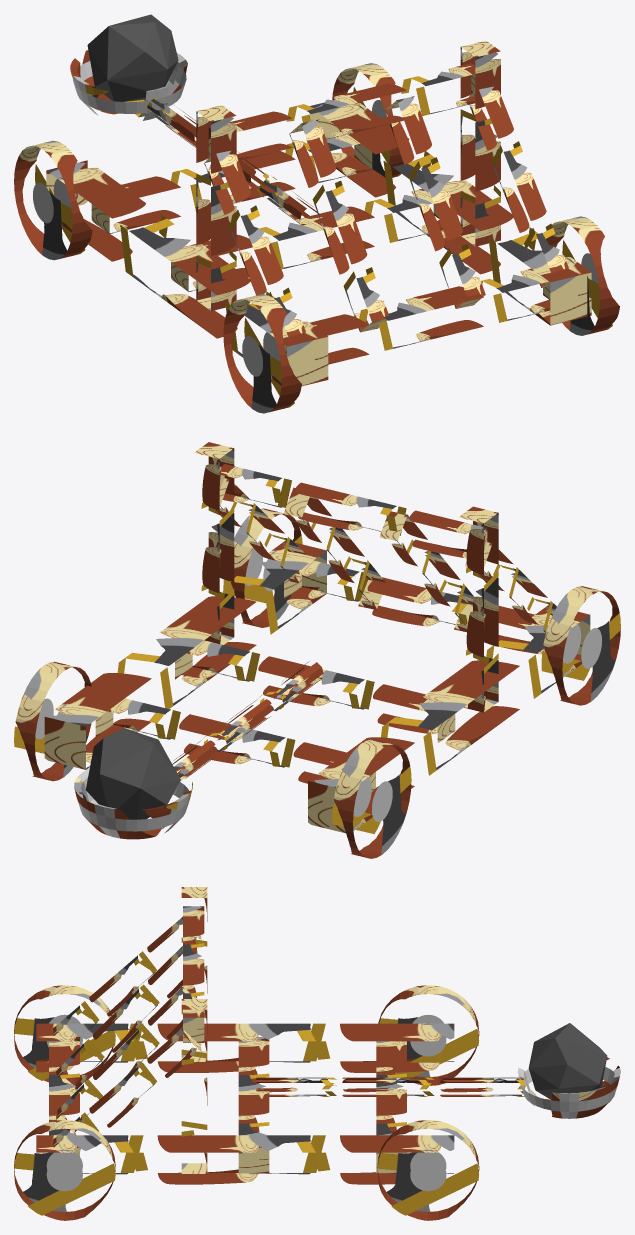
The model's file is HeavyEra1.fbx.
3 renders of one model, top to bottom at view 1: azimuth 30°, elevation 25°; view 2: azimuth 150°, elevation 25°; view 3: azimuth 270°, elevation 25°, orthographic. The views are drawn at different scales.
Parts seen in each view (by area): view 1: Circle.001, Icosphere; view 2: Circle.001, Icosphere; view 3: Circle.001, Icosphere.
Part boxes in pixels (x1=…): Circle.001: x1=14, y1=41, x2=619, y2=413; Icosphere: x1=87, y1=14, x2=178, y2=101; Circle.001: x1=14, y1=442, x2=620, y2=858; Icosphere: x1=85, y1=728, x2=180, y2=819; Circle.001: x1=14, y1=887, x2=620, y2=1220; Icosphere: x1=528, y1=1023, x2=607, y2=1099.
Bounding box in the file's own units: 476 × 311 × 851.
